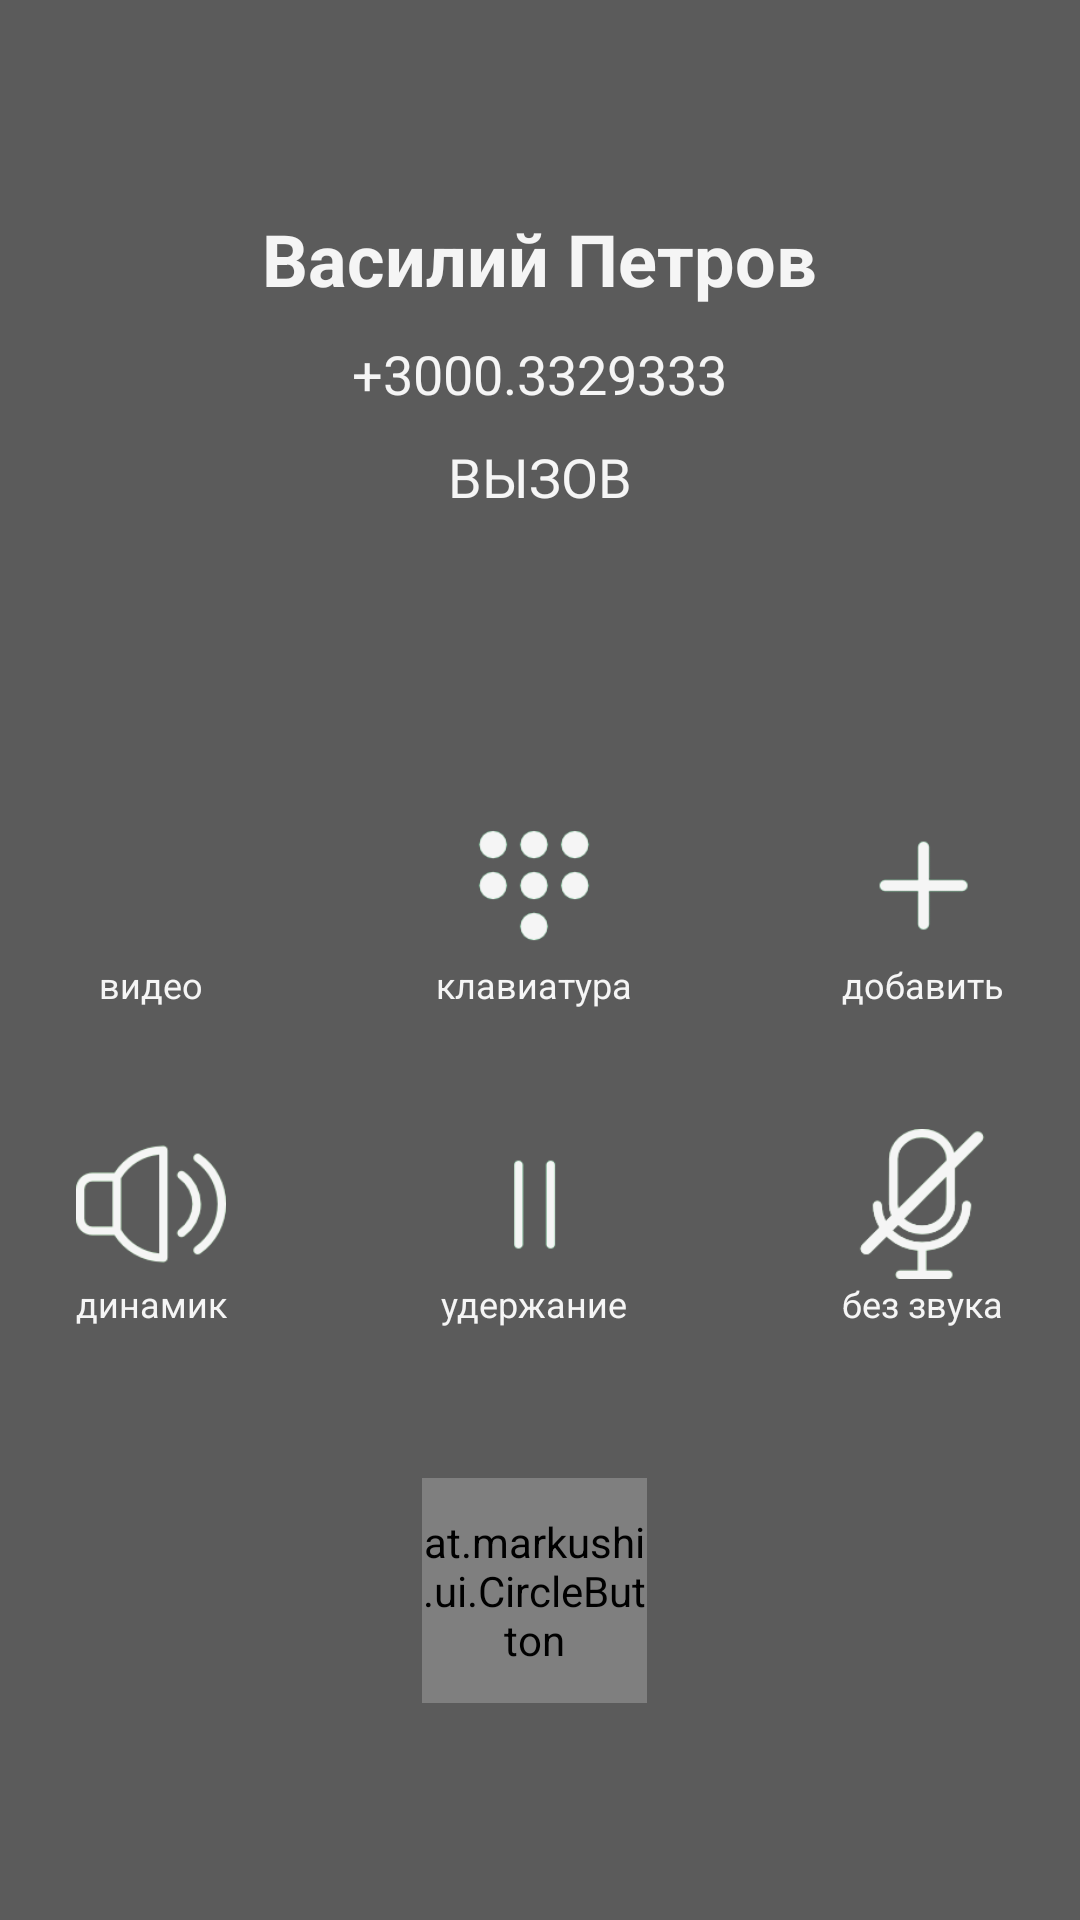

Point at icon controls on the screen. Image size 1080x1920, points as (x=x, y=y).
mic: (x=922, y=1204)
pause: (x=534, y=1204)
plus: (x=923, y=885)
